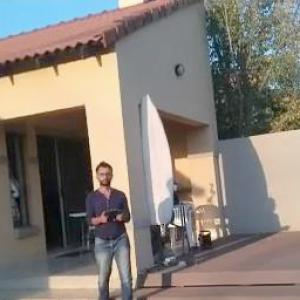follow: (83, 156, 142, 299)
